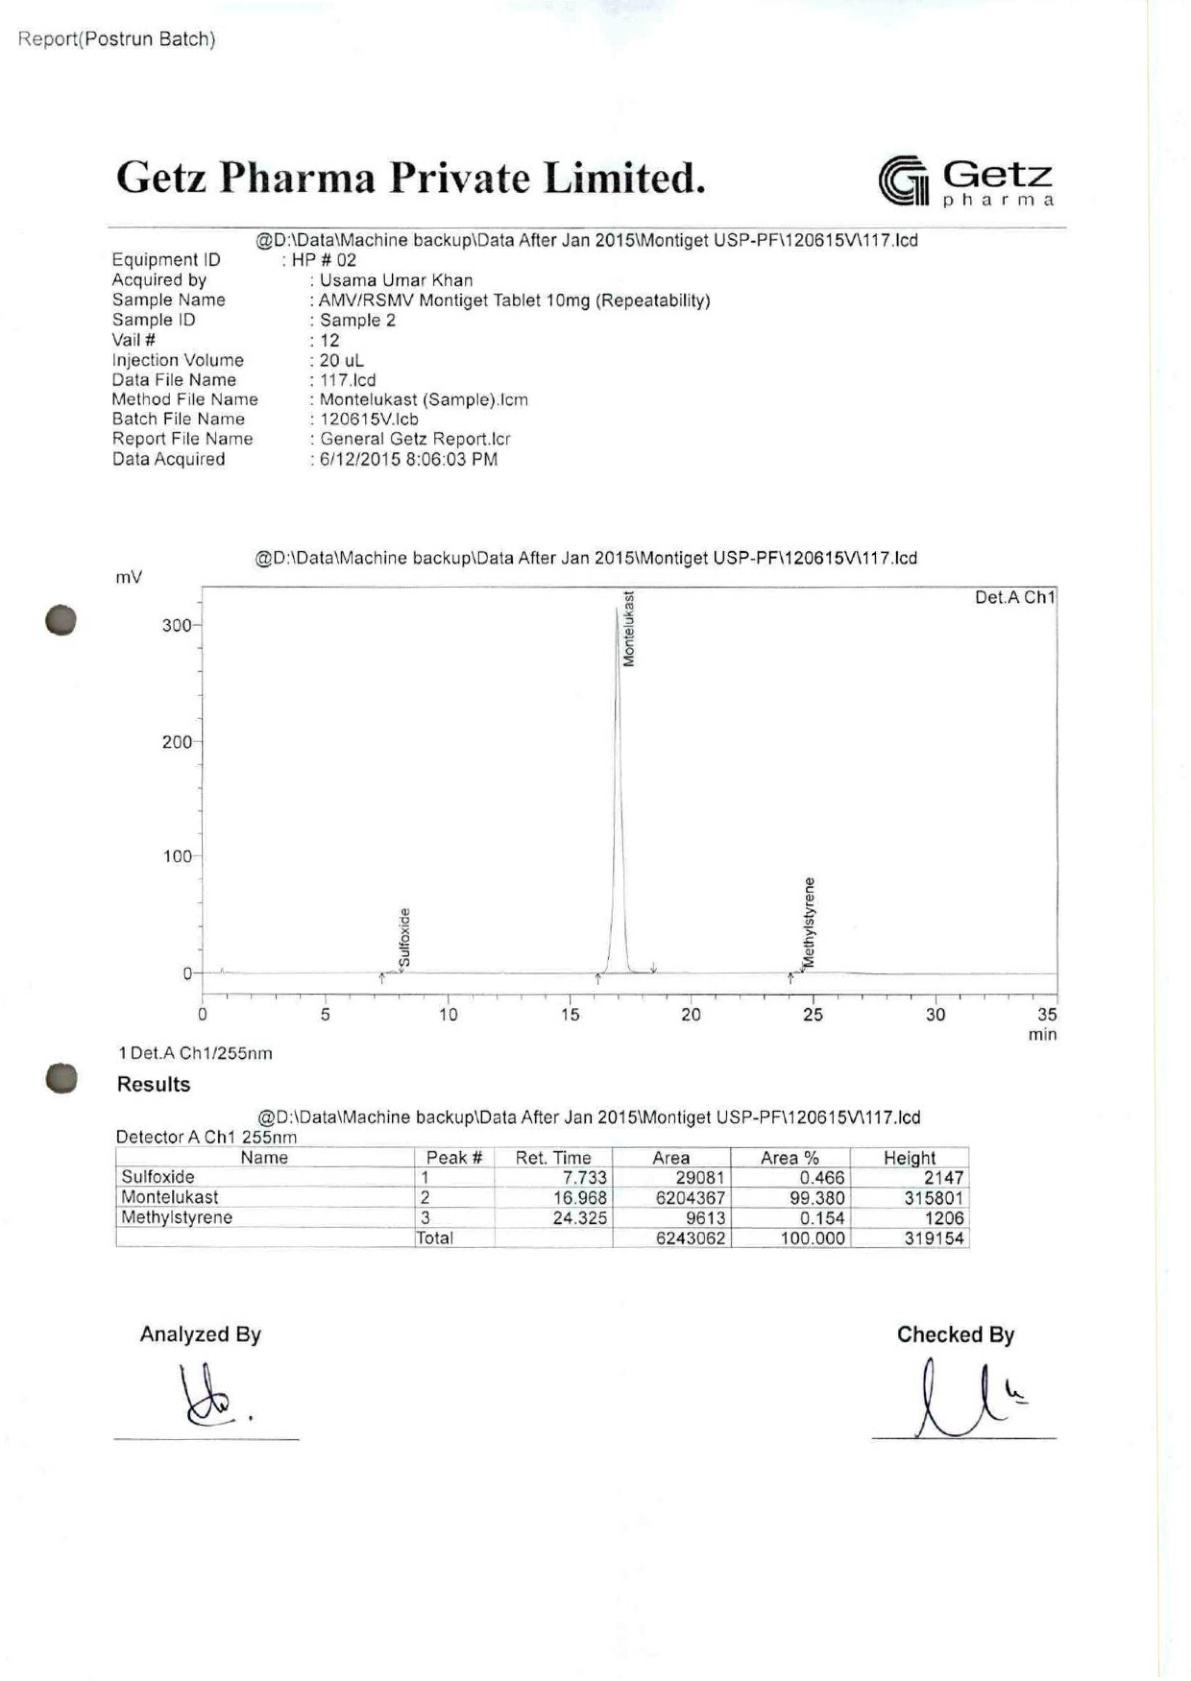full_lined: (113, 1143, 971, 1250)
nolines: (107, 248, 719, 474)
